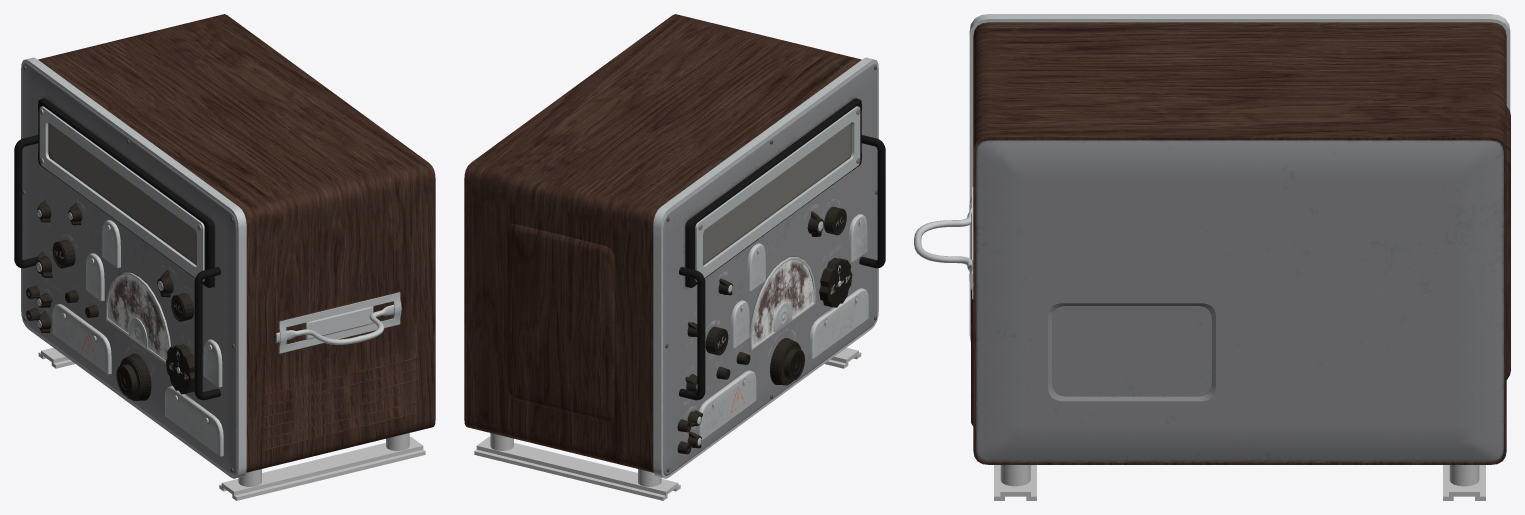
Rendered from Radio.fbx.
The picture shows the model from 3 angles, left to right: view 1: azimuth 30°, elevation 25°; view 2: azimuth 150°, elevation 25°; view 3: azimuth 270°, elevation 25°; orthographic projection. The views are drawn at different scales.
Visible parts, largest first — view 1: Radio_lp, Dials_lp, Legs_lp, Glass_lp; view 2: Radio_lp, Dials_lp, Legs_lp, Glass_lp; view 3: Radio_lp, Legs_lp, Dials_lp.
Part boxes in pixels (x1,y1,x2,y2): Radio_lp: [21, 14, 435, 478]; Dials_lp: [14, 66, 401, 472]; Legs_lp: [38, 347, 425, 500]; Glass_lp: [107, 275, 168, 360]; Radio_lp: [464, 14, 878, 478]; Dials_lp: [665, 65, 885, 472]; Legs_lp: [474, 347, 861, 500]; Glass_lp: [752, 259, 813, 347]; Radio_lp: [969, 14, 1510, 464]; Legs_lp: [994, 465, 1485, 500]; Dials_lp: [914, 203, 973, 284].
Size of the model in its own units: 109 by 136 by 200.
